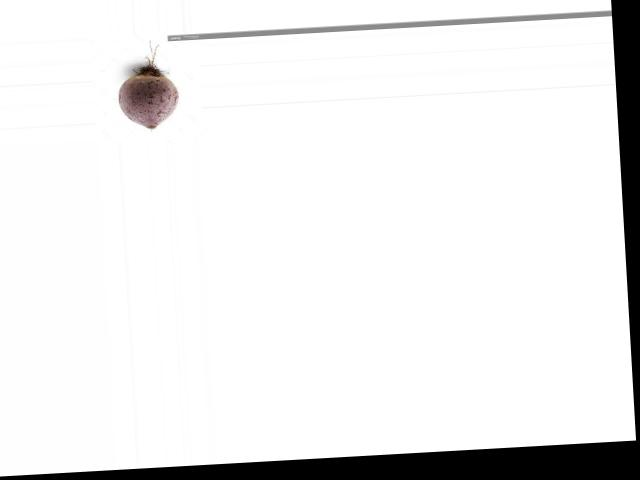beet: (115, 38, 181, 131)
